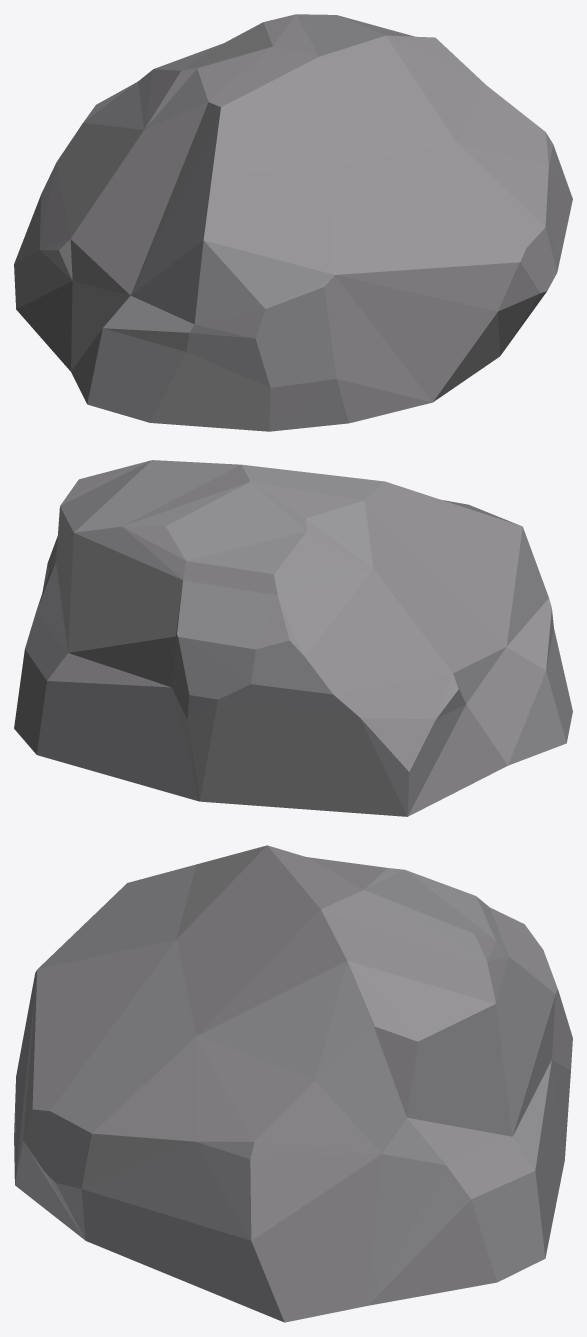
The model's file is Rock_Round_l_01 2.fbx.
The picture shows the model from 3 angles, top to bottom: view 1: azimuth 30°, elevation 25°; view 2: azimuth 150°, elevation 25°; view 3: azimuth 270°, elevation 25°; orthographic projection. The views are drawn at different scales.
Visible parts, largest first — view 1: Rock_Round_l_01; view 2: Rock_Round_l_01; view 3: Rock_Round_l_01.
Part boxes in pixels (box(x1,y1,x2,y2)): Rock_Round_l_01: box(14, 14, 572, 431); Rock_Round_l_01: box(14, 460, 572, 816); Rock_Round_l_01: box(14, 845, 572, 1322).
Bounding box in the file's own units: 342 × 163 × 283.
